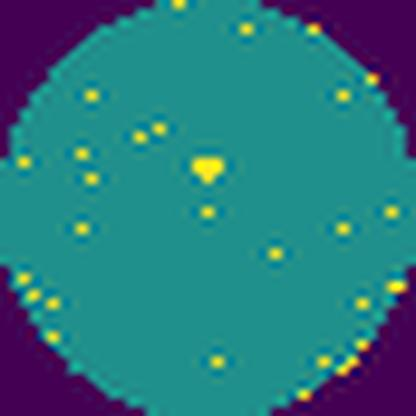Loc: (190, 153, 226, 186)
